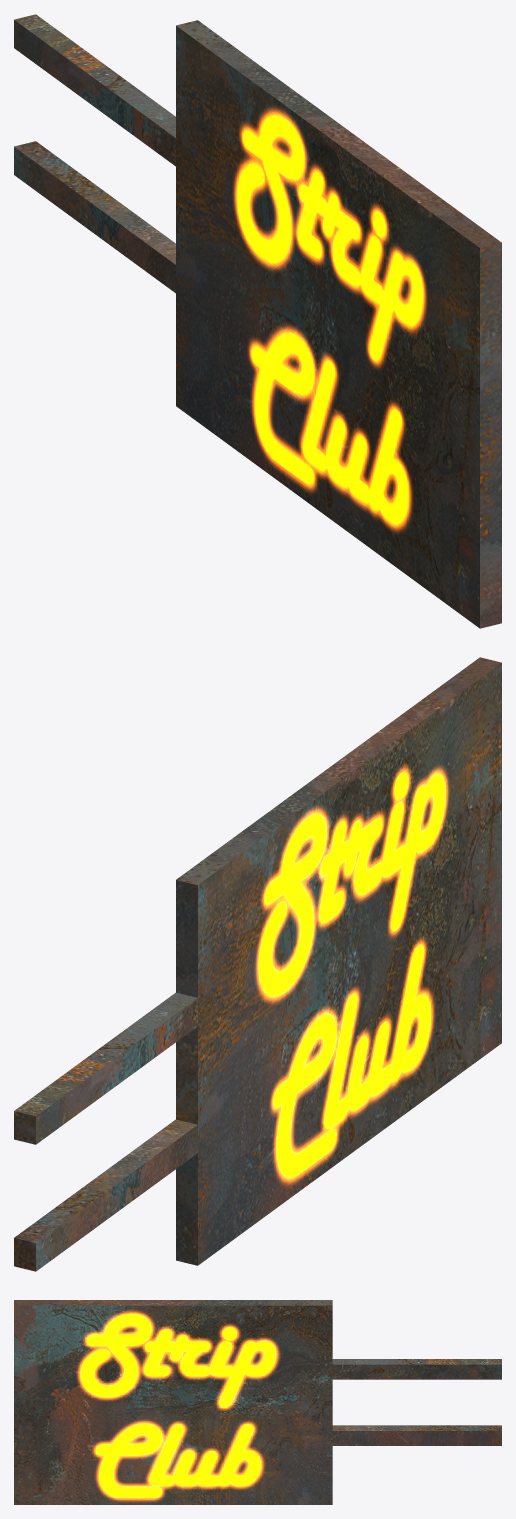
File: neonSign_1.fbx
The picture shows the model from 3 angles, top to bottom: view 1: azimuth 30°, elevation 25°; view 2: azimuth 150°, elevation 25°; view 3: azimuth 270°, elevation 25°; orthographic projection. The views are drawn at different scales.
Visible parts, largest first — view 1: Cube.001; view 2: Cube.001; view 3: Cube.001.
Part boxes in pixels (left/top/right/bottom): Cube.001: left=14, top=14, right=501, bottom=628; Cube.001: left=14, top=657, right=501, bottom=1271; Cube.001: left=14, top=1300, right=501, bottom=1504.
Bounding box in the file's own units: 12.08 × 200 × 444.
